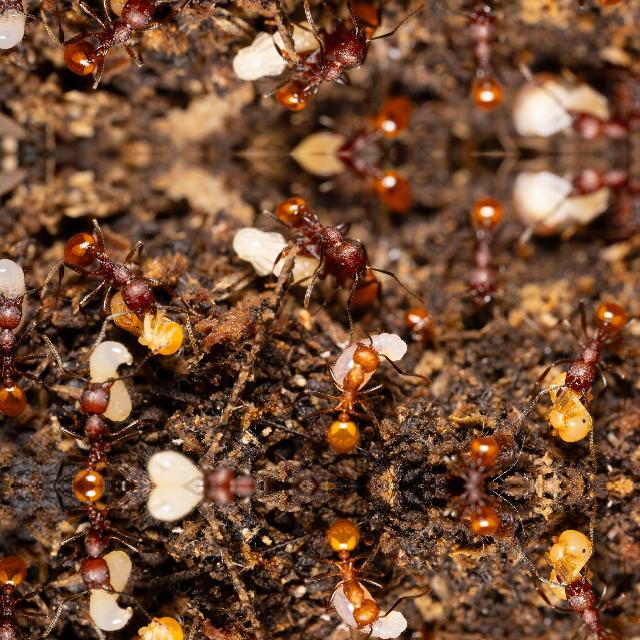Apheanogaster: (298, 331, 420, 453), (298, 517, 420, 639), (48, 219, 188, 321), (250, 188, 390, 284), (250, 22, 390, 118), (40, 368, 150, 484), (40, 486, 150, 602), (46, 0, 187, 86), (529, 296, 639, 406), (432, 187, 534, 303), (432, 3, 534, 119), (529, 562, 639, 640), (298, 153, 438, 211), (298, 95, 438, 153), (557, 153, 639, 231), (557, 75, 639, 153), (0, 288, 44, 420), (429, 424, 519, 484), (429, 486, 519, 546), (174, 442, 296, 484), (174, 486, 296, 528), (0, 548, 44, 640)
